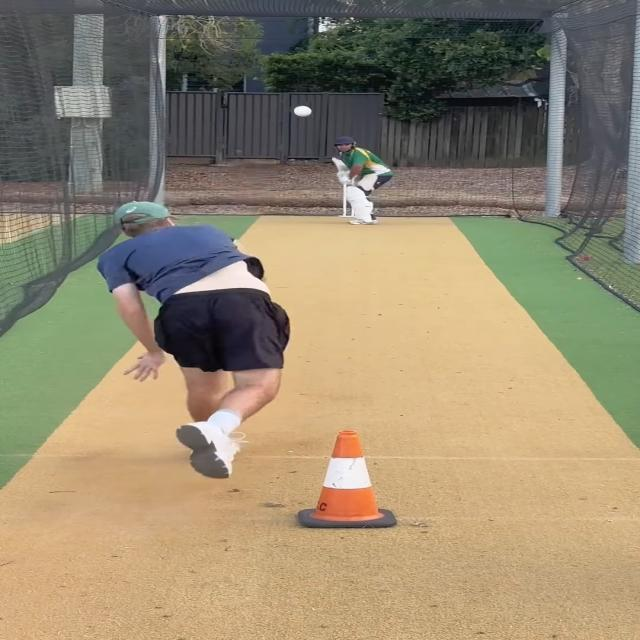Cricket ball: (290, 104, 316, 119)
